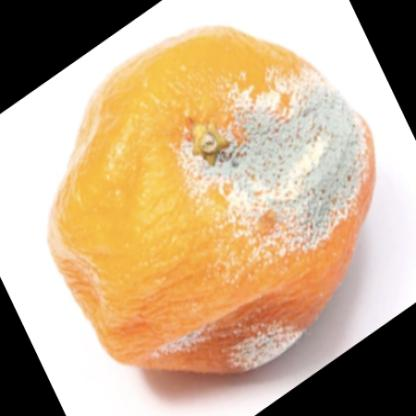rotten: (51, 27, 375, 376)
